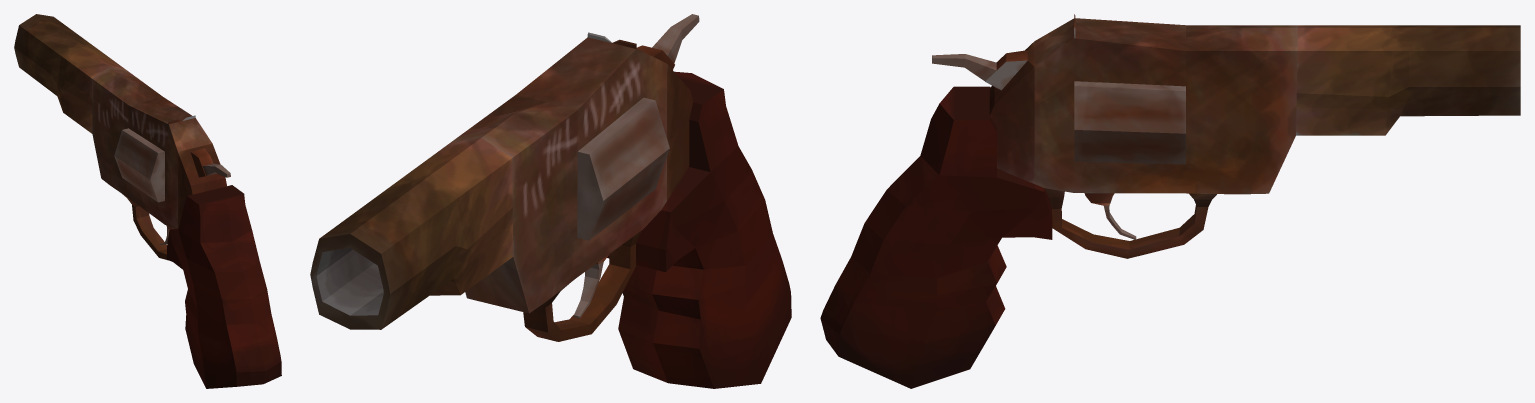
The model's file is GDW FInal Weapon - Revolver2.fbx.
3 renders of one model, left to right at view 1: azimuth 30°, elevation 25°; view 2: azimuth 150°, elevation 25°; view 3: azimuth 270°, elevation 25°, orthographic. The views are drawn at different scales.
Parts seen in each view (by area): view 1: Barrel; view 2: Barrel; view 3: Barrel.
Boxes of the visible parts, bbox=[...] form: Barrel: bbox=[14, 14, 281, 388]; Barrel: bbox=[310, 14, 791, 388]; Barrel: bbox=[820, 14, 1520, 388].
Size of the model in its own units: 40.49 by 136 by 251.
